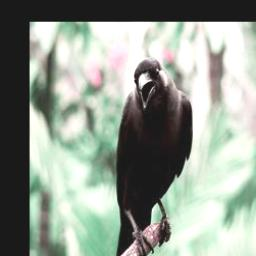Crow: (113, 56, 193, 256)
